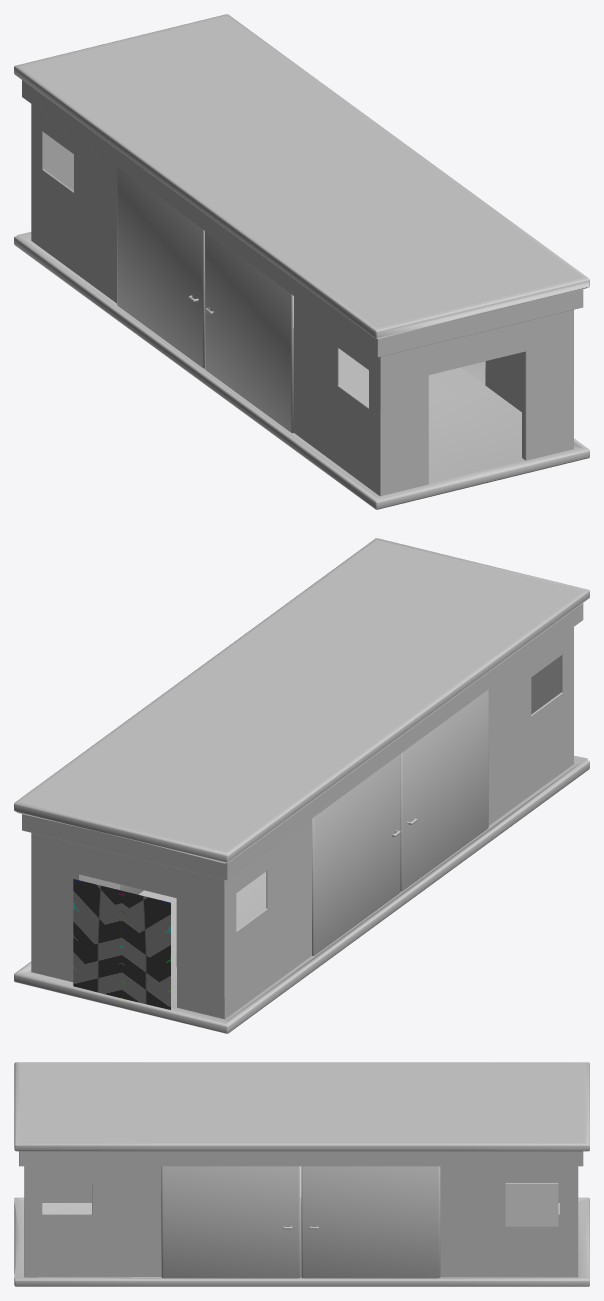
File: VH_TrainSideCabin.fbx
3 views of the same model, one above another, from view 1: azimuth 30°, elevation 25°; view 2: azimuth 150°, elevation 25°; view 3: azimuth 270°, elevation 25° (orthographic). The views are drawn at different scales.
Visible parts, largest first — view 1: Ceiling01, CabinWall01, Ceiling02, Floor, Deur01_L, Deur01_R, CabinWall02; view 2: Ceiling01, CabinWall01, Ceiling02, Deur01_R, Deur01_L, Floor, FrontCabin.001, CabinWall02; view 3: CabinWall02, Ceiling02, Ceiling01, Deur01_R, Deur01_L, Floor, Raam, CabinWall01.
Boxes of the visible parts, left/top/right/bottom form: Ceiling01: left=14, top=40, right=483, bottom=339; CabinWall01: left=22, top=80, right=480, bottom=496; Ceiling02: left=122, top=14, right=589, bottom=312; Floor: left=14, top=232, right=589, bottom=509; Deur01_L: left=205, top=231, right=485, bottom=433; Deur01_R: left=117, top=167, right=204, bottom=368; CabinWall02: left=477, top=289, right=583, bottom=460; Ceiling01: left=120, top=564, right=589, bottom=863; CabinWall01: left=124, top=603, right=583, bottom=1019; Ceiling02: left=14, top=538, right=481, bottom=836; Deur01_R: left=119, top=754, right=400, bottom=955; Deur01_L: left=400, top=689, right=488, bottom=891; Floor: left=14, top=755, right=589, bottom=1033; FrontCabin.001: left=73, top=879, right=170, bottom=1009; CabinWall02: left=22, top=814, right=127, bottom=982; CabinWall02: left=19, top=1151, right=583, bottom=1277; Ceiling02: left=14, top=1103, right=589, bottom=1151; Ceiling01: left=14, top=1062, right=589, bottom=1103; Deur01_R: left=301, top=1166, right=440, bottom=1278; Deur01_L: left=161, top=1166, right=300, bottom=1278; Floor: left=14, top=1197, right=589, bottom=1286; Raam: left=505, top=1183, right=558, bottom=1226; CabinWall01: left=42, top=1184, right=559, bottom=1202.
Size of the model in its own units: 578 by 463 by 1697.
